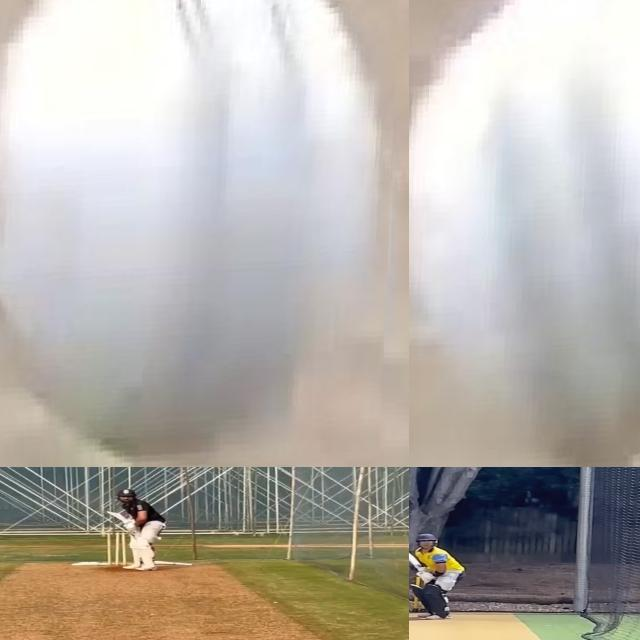Cricket ball: (0, 0, 403, 467), (409, 0, 640, 467)
Stumps: (104, 531, 129, 568)
